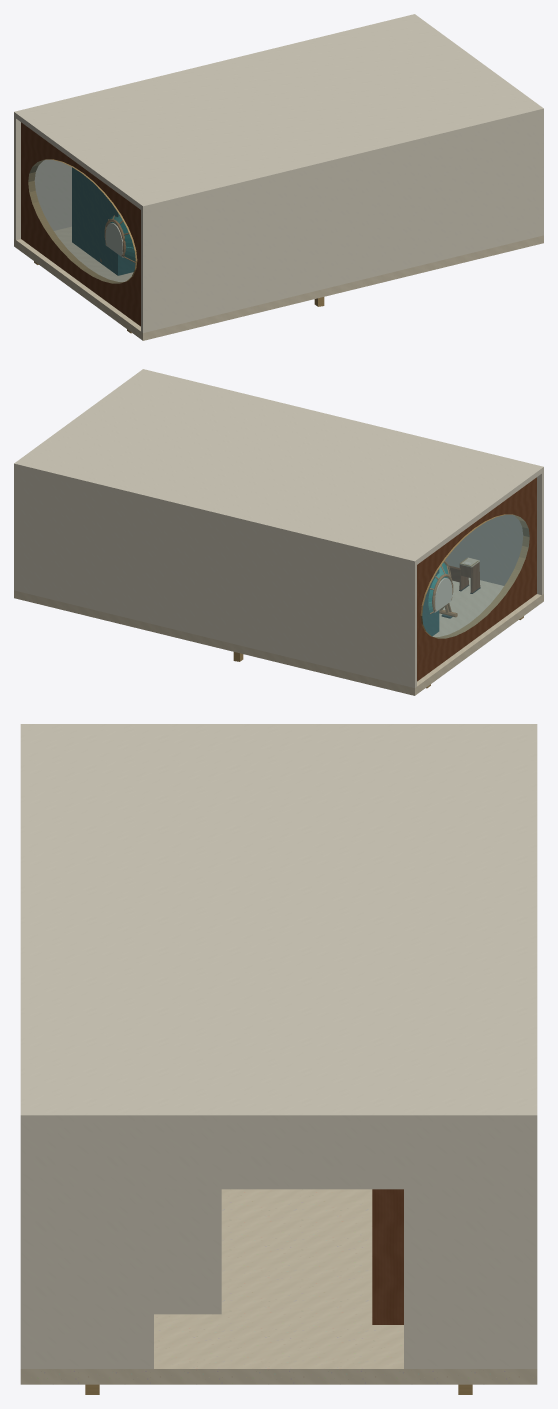
File: NightGardenD15Specialty_494_r001.glb
3 views of the same model, one above another, from view 1: azimuth 30°, elevation 25°; view 2: azimuth 150°, elevation 25°; view 3: azimuth 270°, elevation 25° (orthographic). The views are drawn at different scales.
Visible parts, largest first — view 1: NG494_Ceiling, NG494_SouthSide, NG494_OvalAtriumGlass, NG494_RoomFloor, NG494_OvalWindowReveal, NG494_NorthSide, NG494_Cocoon_RearLiner, NG494_OvalDepthReturn, NG494_ReservedRestSupport__Rear ivory acoustic diffuser; view 2: NG494_Ceiling, NG494_NorthSide, NG494_OvalAtriumGlass, NG494_RoomFloor, NG494_OvalWindowReveal, NG494_SouthSide, NG494_OvalDepthReturn, NG494_Cocoon_RearLiner, NG494_ReservedRestSupport__Rear ivory acoustic diffuser; view 3: NG494_Ceiling, NG494_RoomFloor, NG494_EntryShoulderSouth, NG494_EntryShoulderNorth, NG494_EntryHeader, NG494_WashEntrySide, NG494_EntryPrivacyDogleg, NG494_NorthSide, NG494_SouthSide.
Boxes of the visible parts, <box> form: NG494_Ceiling: <box>14,14,543,211</box>; NG494_SouthSide: <box>141,114,543,332</box>; NG494_OvalAtriumGlass: <box>28,160,135,283</box>; NG494_RoomFloor: <box>14,226,543,340</box>; NG494_OvalWindowReveal: <box>21,122,140,326</box>; NG494_NorthSide: <box>14,117,71,239</box>; NG494_Cocoon_RearLiner: <box>73,168,116,274</box>; NG494_OvalDepthReturn: <box>28,159,137,283</box>; NG494_ReservedRestSupport__Rear ivory acoustic diffuser: <box>105,223,123,257</box>; NG494_Ceiling: <box>14,369,543,566</box>; NG494_NorthSide: <box>14,469,416,687</box>; NG494_OvalAtriumGlass: <box>422,515,529,638</box>; NG494_RoomFloor: <box>14,578,543,695</box>; NG494_OvalWindowReveal: <box>417,477,536,681</box>; NG494_SouthSide: <box>445,472,543,594</box>; NG494_OvalDepthReturn: <box>420,514,529,638</box>; NG494_Cocoon_RearLiner: <box>422,570,438,636</box>; NG494_ReservedRestSupport__Rear ivory acoustic diffuser: <box>434,578,452,612</box>; NG494_Ceiling: <box>20,724,537,1125</box>; NG494_RoomFloor: <box>20,1189,537,1384</box>; NG494_EntryShoulderSouth: <box>29,1125,153,1368</box>; NG494_EntryShoulderNorth: <box>404,1125,528,1368</box>; NG494_EntryHeader: <box>150,1125,407,1189</box>; NG494_WashEntrySide: <box>154,1189,221,1314</box>; NG494_EntryPrivacyDogleg: <box>372,1189,403,1324</box>; NG494_NorthSide: <box>528,1125,537,1368</box>; NG494_SouthSide: <box>20,1125,29,1368</box>.
Bounding box in the file's own units: 12.9 × 4.91 × 7.2.
58 materials, 43 textured.
